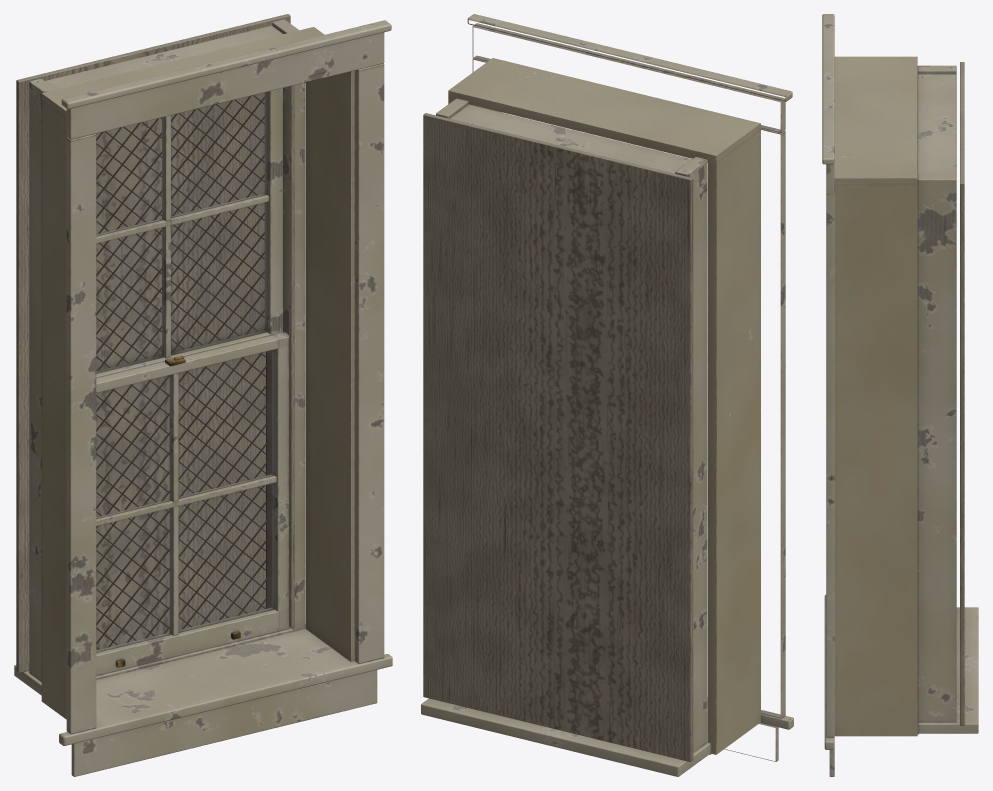
The model's file is window.glb.
The picture shows the model from 3 angles, left to right: view 1: azimuth 30°, elevation 25°; view 2: azimuth 150°, elevation 25°; view 3: azimuth 270°, elevation 25°; orthographic projection. The views are drawn at different scales.
Visible parts, largest first — view 1: frame, plywood, lower_0_1, upper_0_1, lower_1_1, lower_1_0, upper_1_1, upper_0_0, lower_0_0, upper_1_0, mesh_lower_0_1, mesh_upper_0_1 (+7 smaller); view 2: plywood, frame; view 3: frame, plywood.
Boxes of the visible parts, x1,y1,x2,y2 form: frame: [14, 19, 392, 776]; plywood: [16, 14, 290, 673]; lower_0_1: [178, 482, 274, 632]; upper_0_1: [171, 202, 267, 355]; lower_1_1: [178, 349, 274, 498]; lower_1_0: [96, 374, 171, 518]; upper_1_1: [171, 92, 267, 218]; upper_0_0: [96, 227, 163, 373]; lower_0_0: [96, 508, 171, 652]; upper_1_0: [96, 117, 163, 236]; mesh_lower_0_1: [158, 466, 272, 633]; mesh_upper_0_1: [158, 192, 264, 351]; plywood: [423, 113, 693, 761]; frame: [421, 14, 793, 776]; frame: [822, 14, 978, 776]; plywood: [960, 62, 964, 725].
Size of the model in its own units: 1.26 by 2.48 by 0.564.
Materials: 3 (2 with a texture image).
